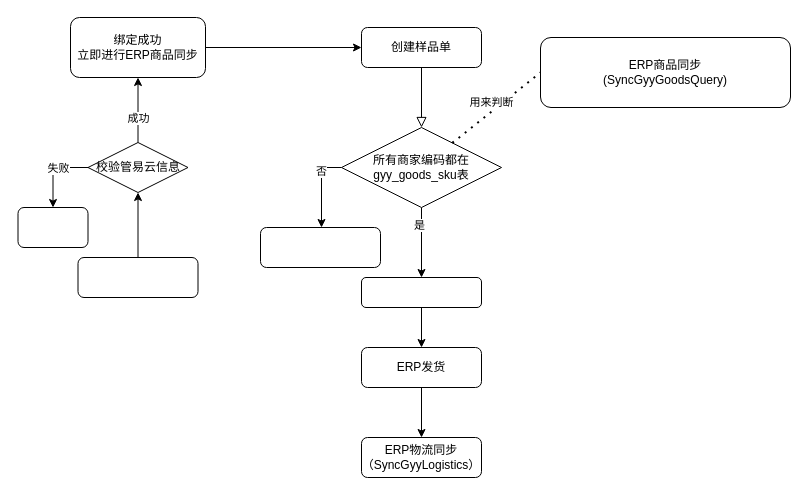
Image size: 808x495. Some labels were removed from this diagram. The shapes that lost their labels are listed below. From the top down, each one's centre as x and y in pixels, then its label:
At pixel 52 227: "报错提醒".
At pixel 320 247: "提醒商家编码不存在".
At pixel 137 277: "用户提交管易云信息".
At pixel 421 292: "同步样品单到ERP".
